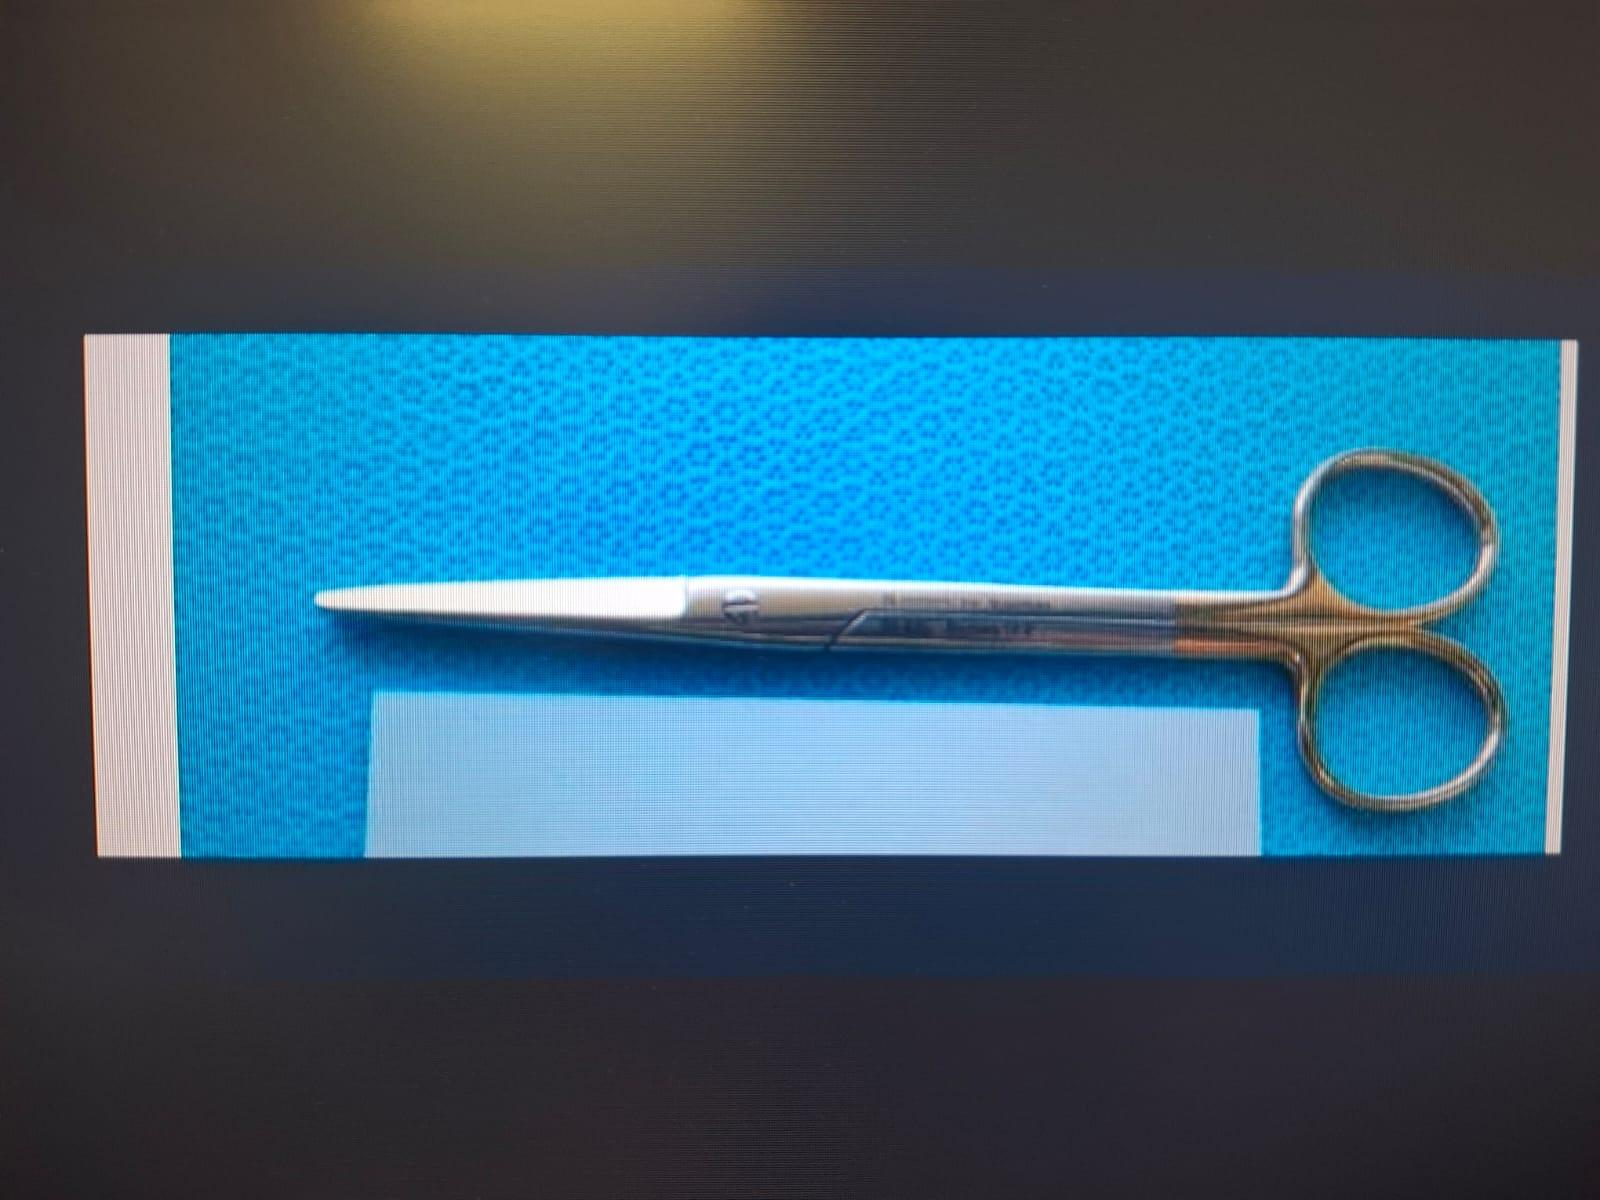Straight Mayo: (300, 416, 1512, 832)
